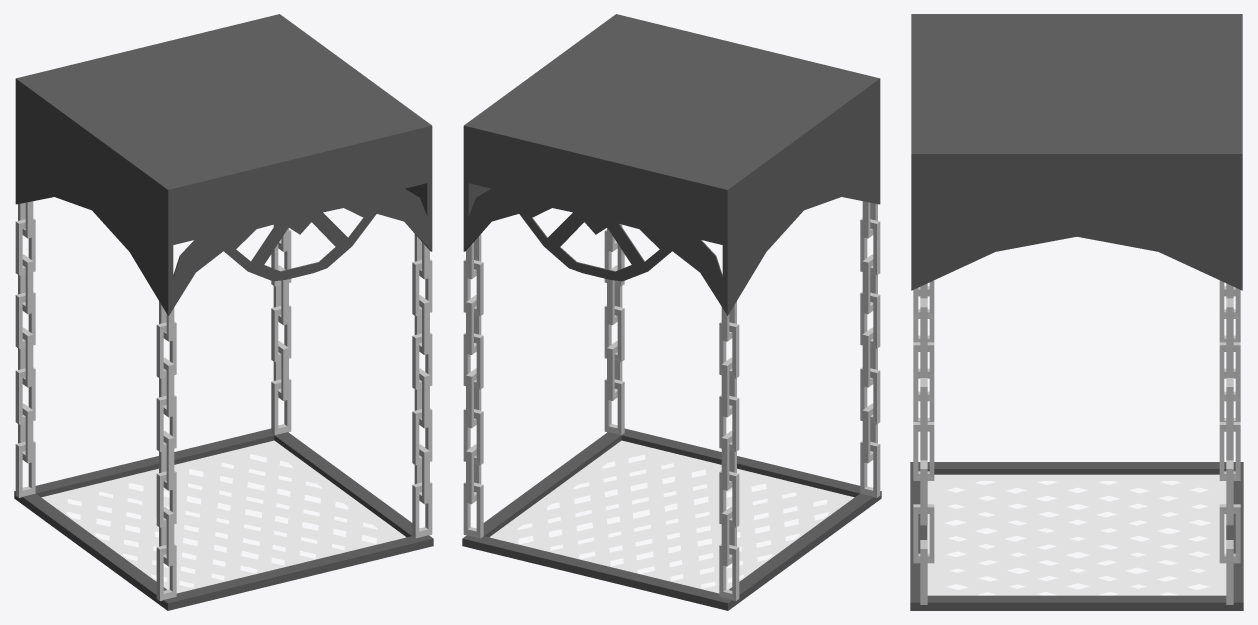
File: Dark_Platform.fbx
The picture shows the model from 3 angles, left to right: view 1: azimuth 30°, elevation 25°; view 2: azimuth 150°, elevation 25°; view 3: azimuth 270°, elevation 25°; orthographic projection. The views are drawn at different scales.
Parts seen in each view (by area): view 1: Dark_Platform; view 2: Dark_Platform; view 3: Dark_Platform.
Boxes of the visible parts, <box> form: Dark_Platform: <box>14,14,433,610</box>; Dark_Platform: <box>462,14,881,610</box>; Dark_Platform: <box>910,14,1243,610</box>.
Size of the model in its own units: 268 by 396 by 262.
3 materials, 1 textured.
